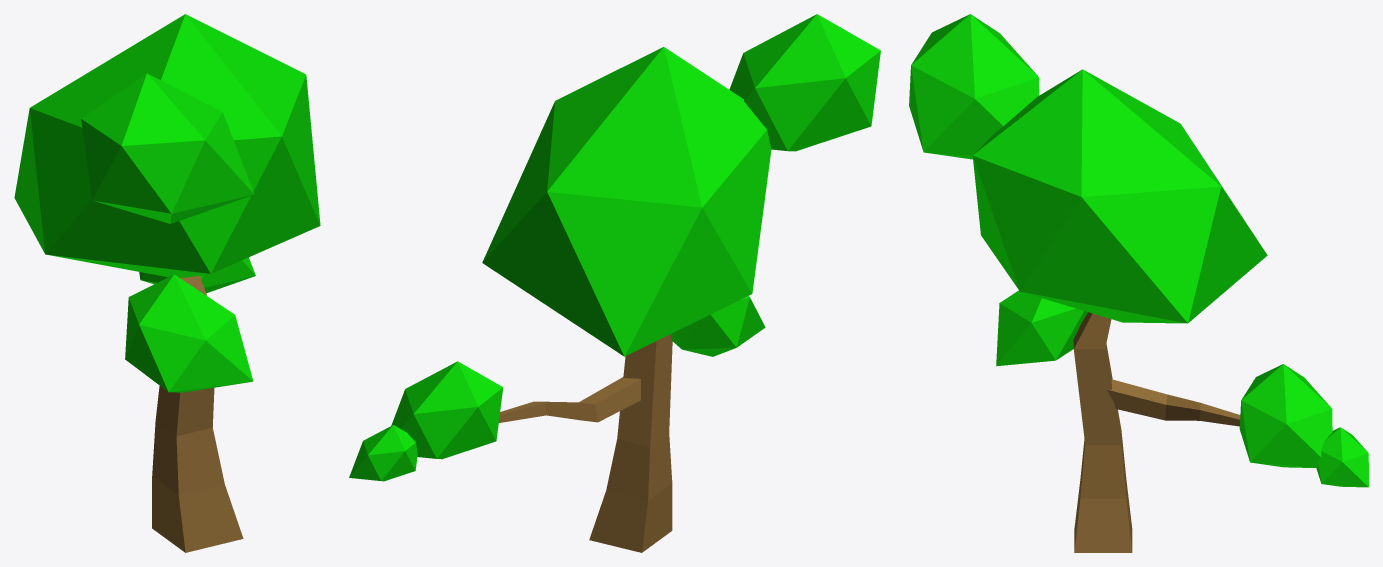
Rendered from tree3.fbx.
The picture shows the model from 3 angles, left to right: view 1: azimuth 30°, elevation 25°; view 2: azimuth 150°, elevation 25°; view 3: azimuth 270°, elevation 25°; orthographic projection. The views are drawn at different scales.
Parts seen in each view (by area): view 1: Cube.001; view 2: Cube.001; view 3: Cube.001.
Part boxes in pixels (box(x1,y1,x2,y2)): Cube.001: box(14, 14, 320, 552); Cube.001: box(349, 14, 880, 552); Cube.001: box(909, 14, 1368, 552).
Bounding box in the file's own units: 317 × 486 × 428.
Materials: 1 (1 with a texture image).
